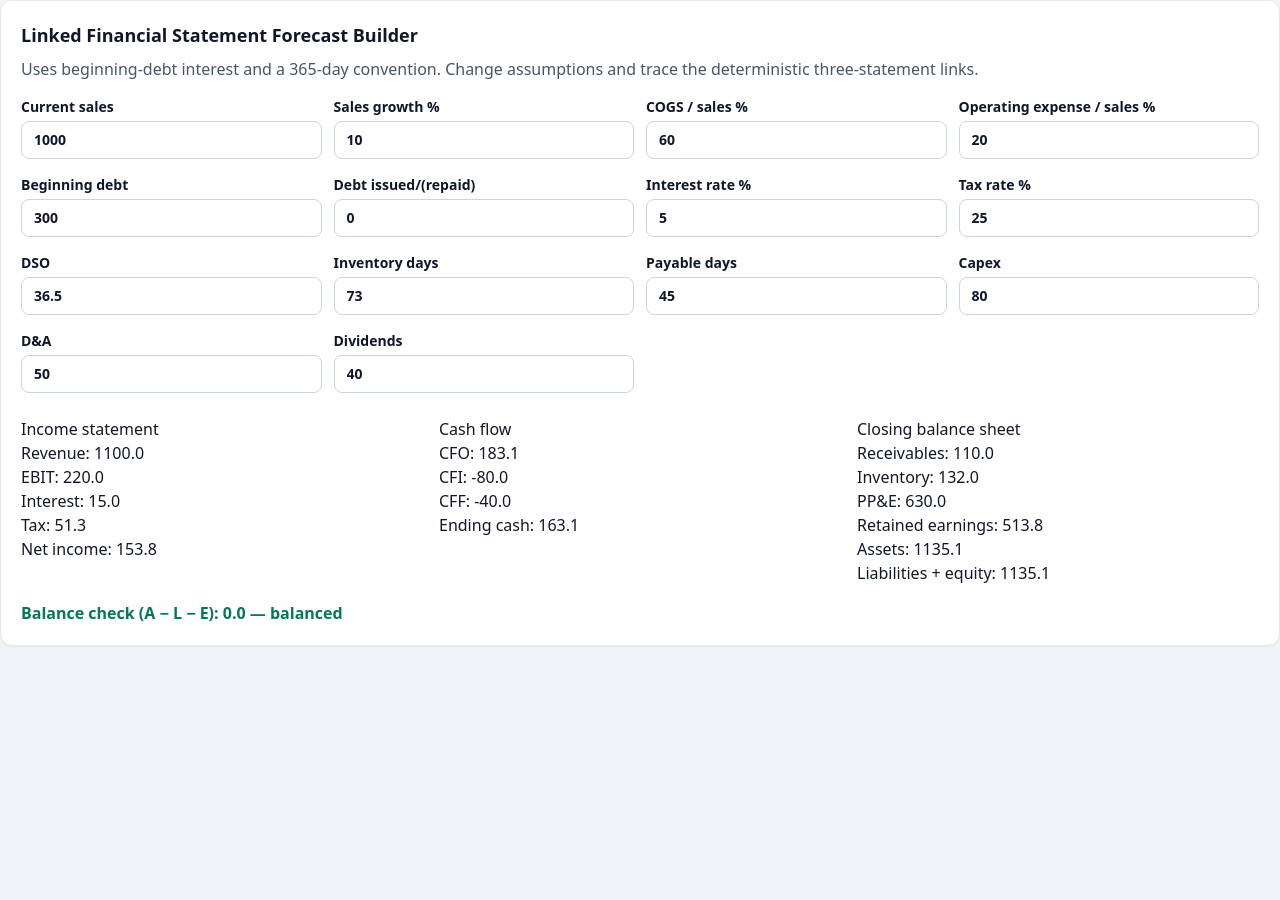
it: LM12 forecasting tools › keeps linked statements balanced after an assumption change
Expected: the text "Balance check (A − L − E): 0.0 — balanced" is shown, [21,602,343,624]
Replace the text in the number field labelled "Sales growth %" with "20" at (484, 140), box [334,121,634,159]
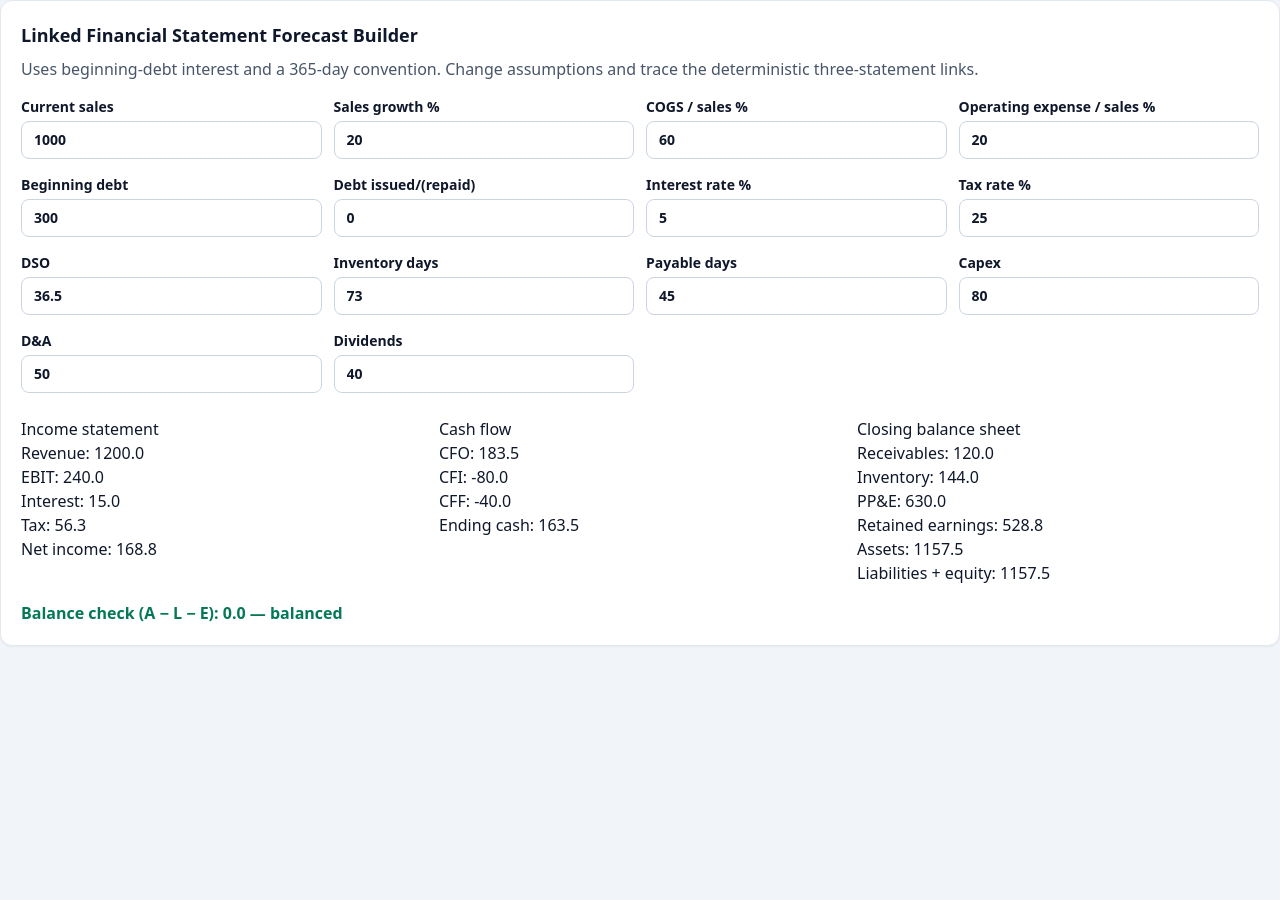
Expected: the text "Balance check (A − L − E): 0.0 — balanced" is shown, [21,602,343,624]
Expected: the text "Revenue: 1200.0" is shown, [21,442,144,464]
